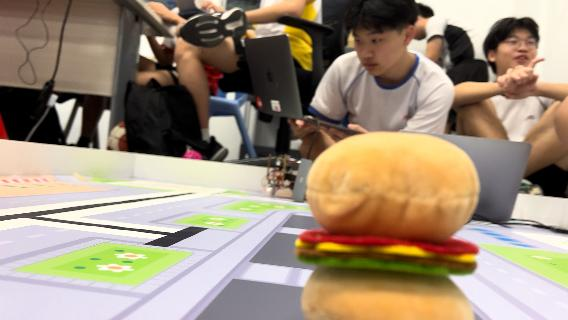burger: (296, 130, 488, 316)
